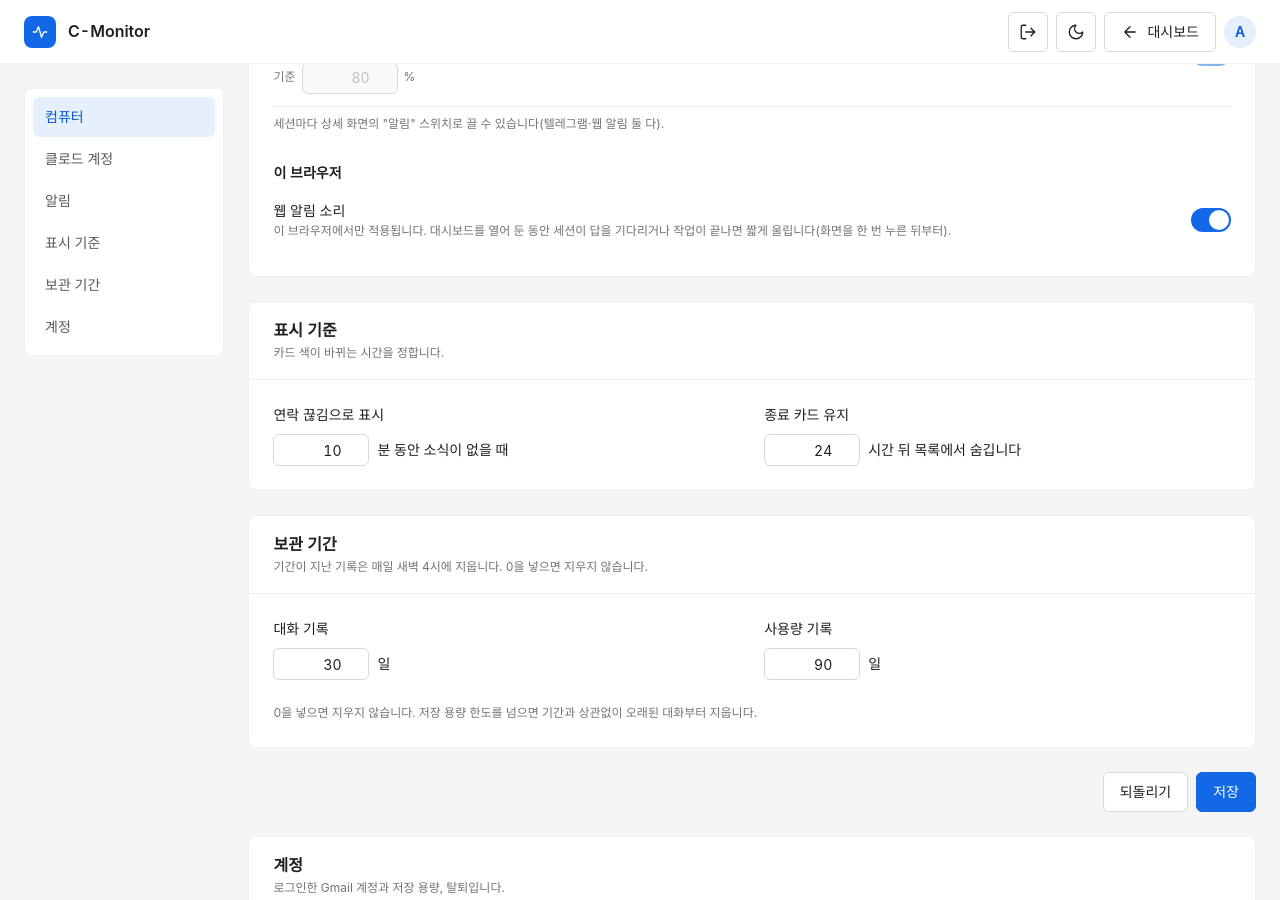
Scenario: 설정 › 입력 범위는 서버와 같다(종료 카드 유지는 0~8760시간, 별칭 60자)
The image size is (1280, 900).
(page scrolled)
Check: the text "시간 뒤 목록에서 숨깁니다" is shown, box [868,439,1021,461]
Replace the text in the number field labelled "종료 카드 유지" with "0" at {"x": 812, "y": 450}, box [764,434,860,466]
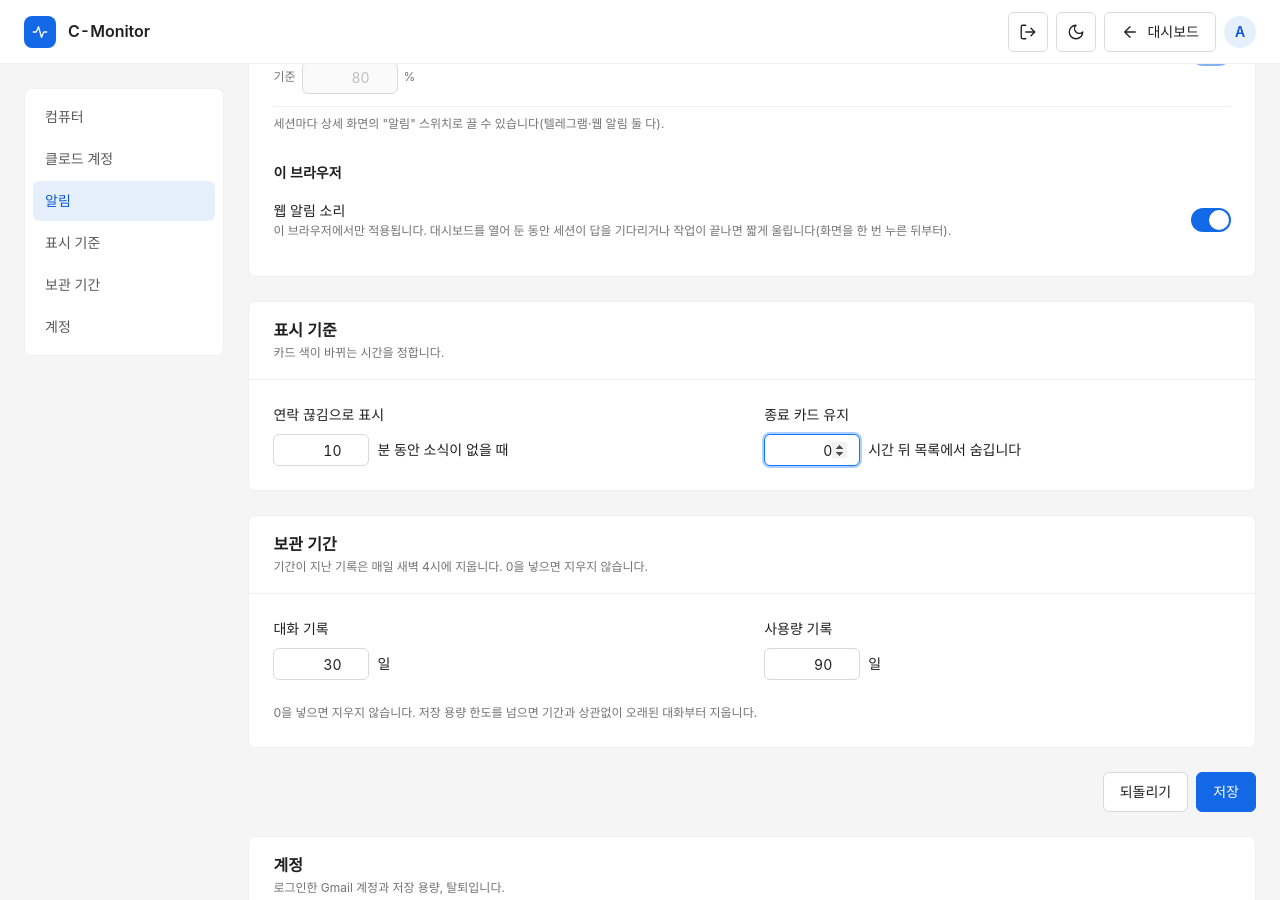
Click the button "저장".
click(1226, 792)  # box [1196,772,1256,812]
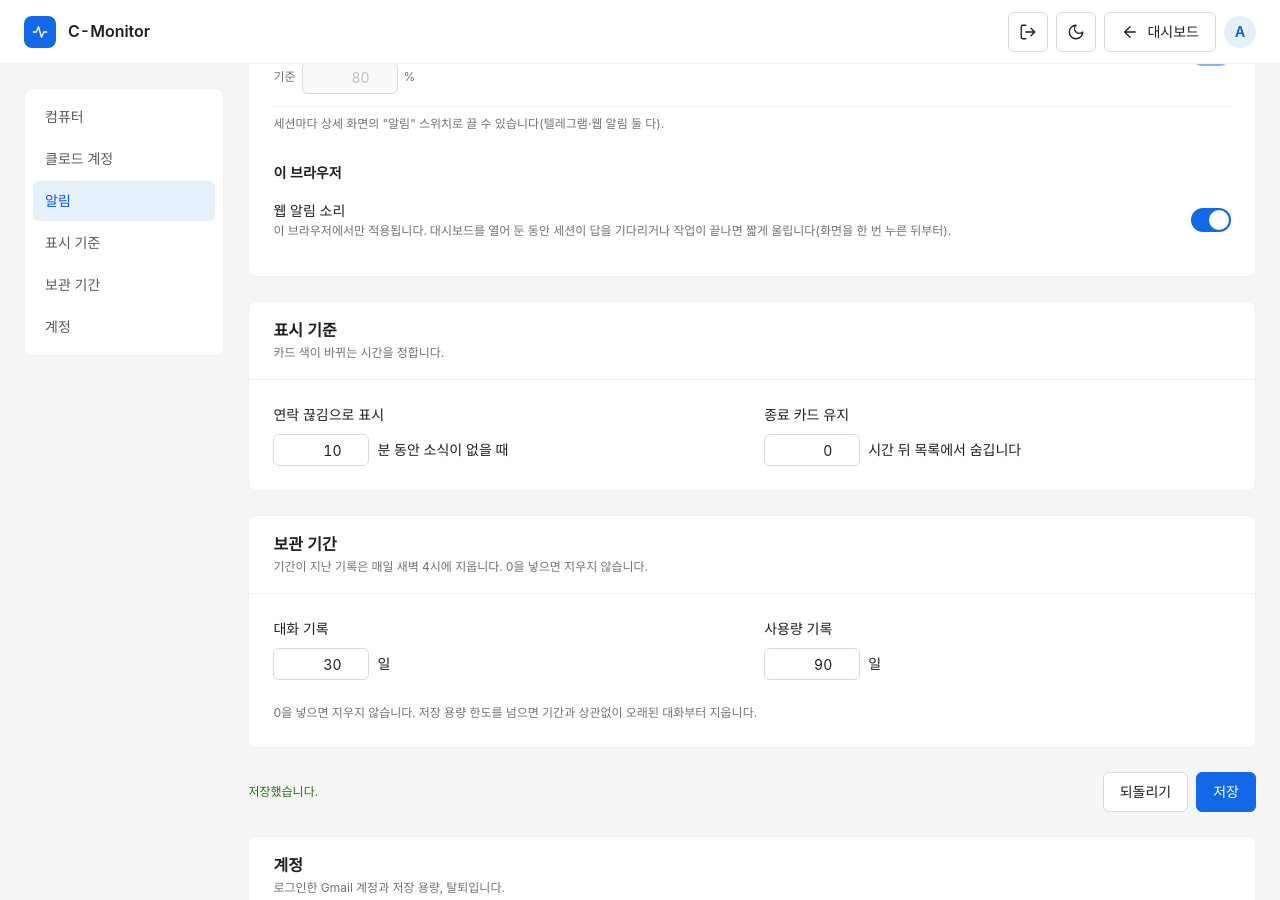
Replace the text in the number field labelled "종료 카드 유지" with "8761" at {"x": 812, "y": 450}, box [764,434,860,466]
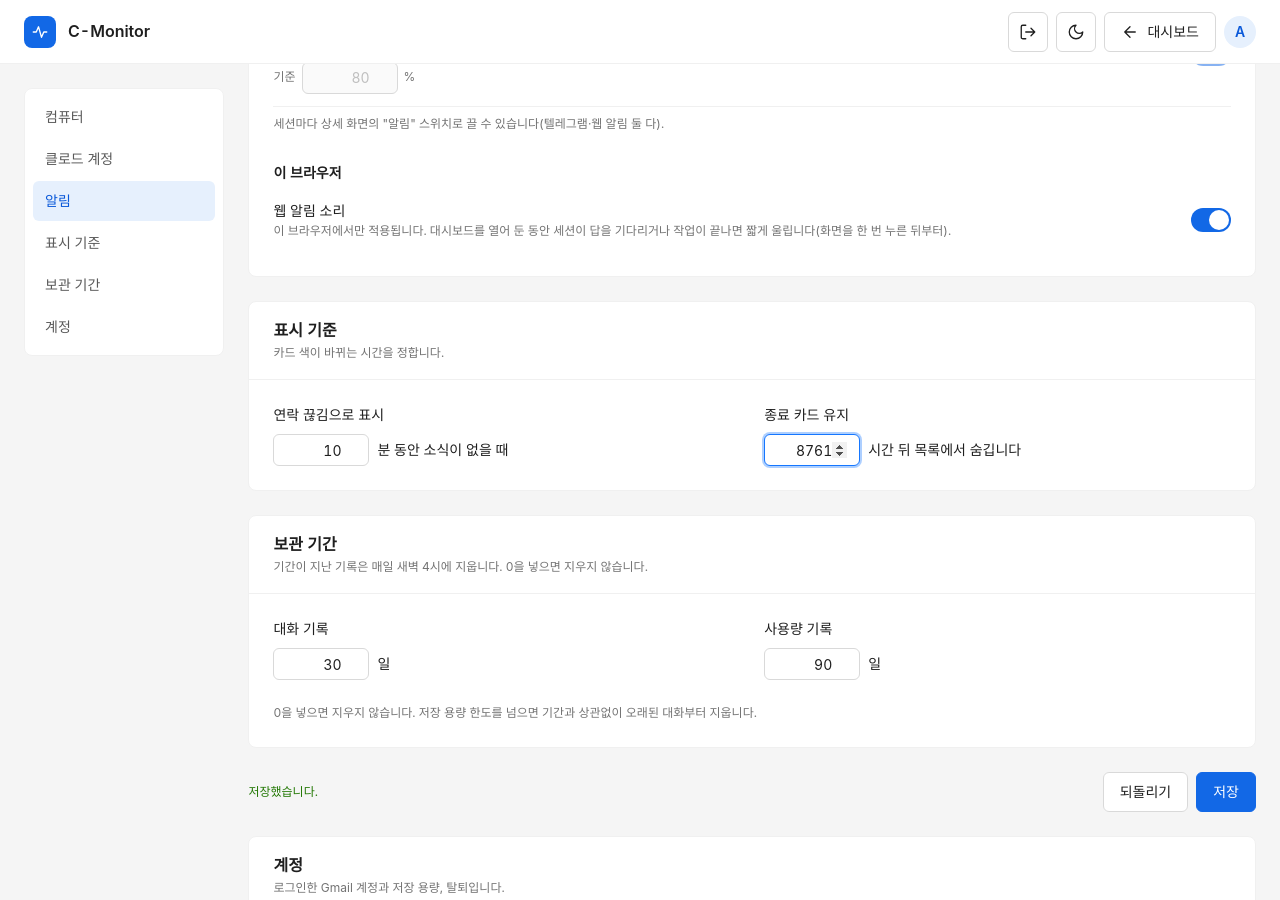
Click the button "저장".
click(1226, 792)  # box [1196,772,1256,812]
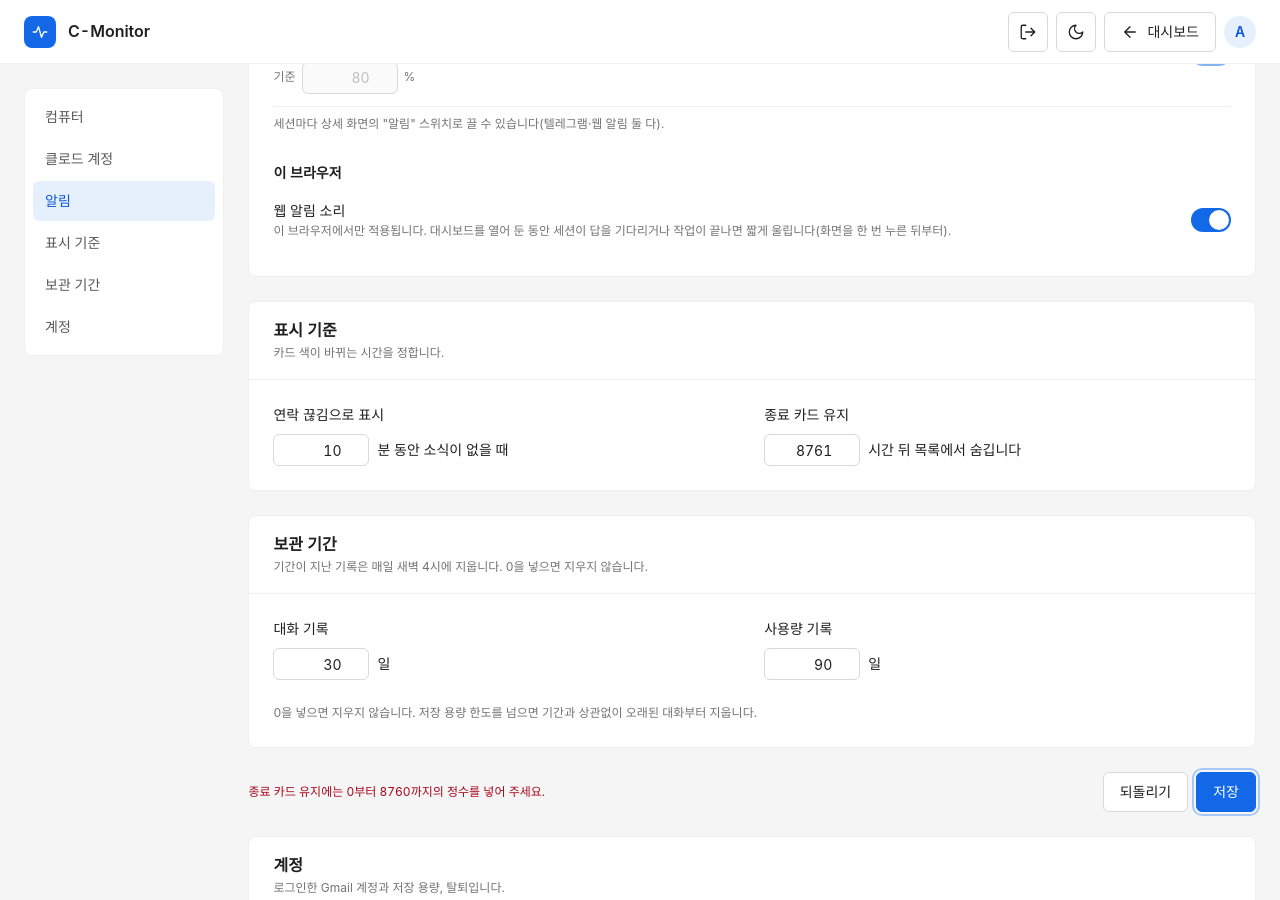
Check: the text "종료 카드 유지에는 0부터 8760까지의 정수를 넣어 주세요." is shown, box [248,783,545,801]
